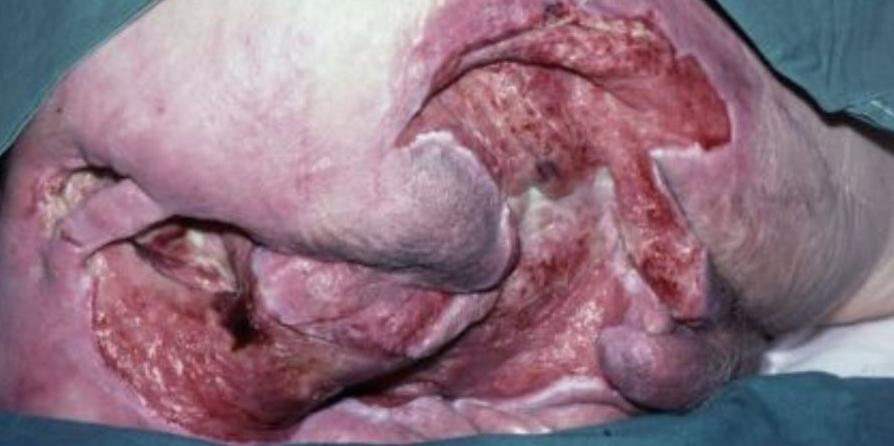Stage4: (129, 0, 769, 420)
